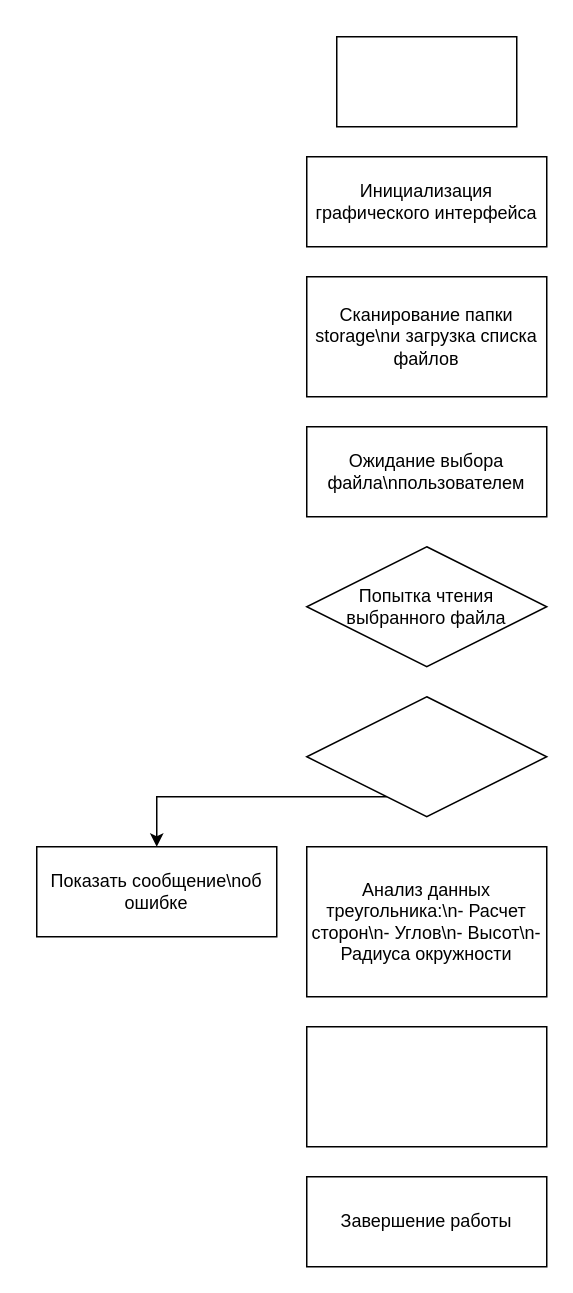
The diagram is 573 pixels wide and 1293 high, and some of its shapes have lost their labels. Here are the shapes that lost their labels. From the top down, the centre of each, then its label:
the point at 426,81: Запуск программы
the point at 426,756: Ошибка\nчтения?
the point at 426,1086: Отрисовка треугольника\nи вывод информации
